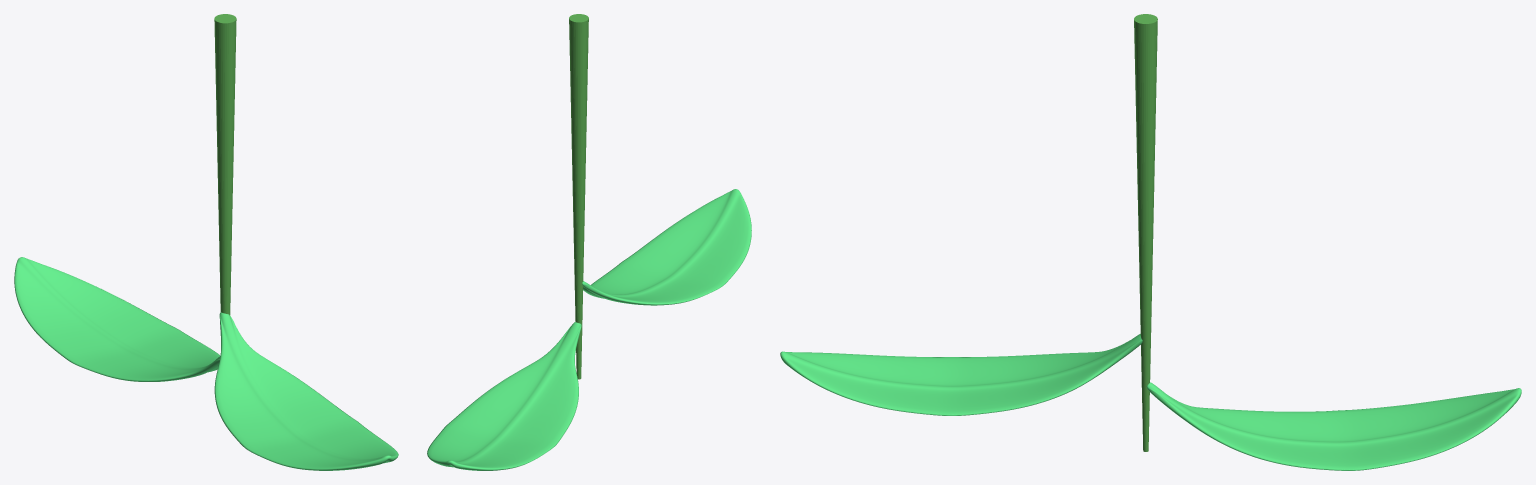
Rendered from PlantaBB.fbx.
The picture shows the model from 3 angles, left to right: view 1: azimuth 30°, elevation 25°; view 2: azimuth 150°, elevation 25°; view 3: azimuth 270°, elevation 25°; orthographic projection. The views are drawn at different scales.
Visible parts, largest first — view 1: Hoja, Hoja.001, Tallo; view 2: Hoja.001, Hoja, Tallo; view 3: Hoja.001, Hoja, Tallo.
Boxes of the visible parts, x1=… form: Hoja: x1=214, y1=312, x2=398, y2=470; Hoja.001: x1=14, y1=257, x2=220, y2=381; Tallo: x1=214, y1=14, x2=236, y2=315; Hoja.001: x1=427, y1=322, x2=581, y2=470; Hoja: x1=582, y1=189, x2=751, y2=305; Tallo: x1=569, y1=14, x2=588, y2=379; Hoja.001: x1=1146, y1=382, x2=1521, y2=470; Hoja: x1=780, y1=334, x2=1142, y2=415; Tallo: x1=1134, y1=14, x2=1157, y2=451.
Bounding box in the file's own units: 22.48 × 71.6 × 111.
